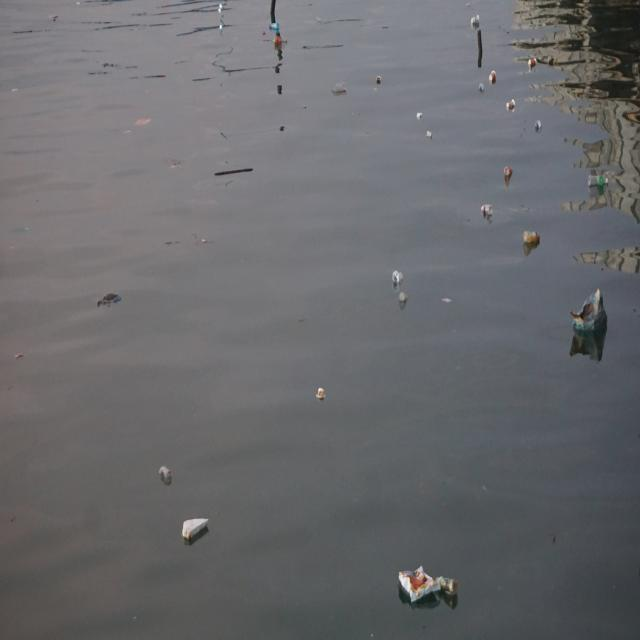Botol Plastik: (432, 571, 461, 598), (586, 165, 612, 195), (522, 227, 544, 250), (271, 34, 295, 55), (268, 16, 287, 36), (480, 202, 497, 221)
Bungkus Makanan: (397, 561, 439, 609), (179, 513, 211, 551)
Bungkus Minuman: (468, 13, 488, 33), (392, 266, 405, 290), (504, 160, 517, 184), (489, 67, 502, 85), (508, 97, 519, 115), (534, 118, 542, 134)
Kantong Plastik: (567, 286, 609, 350)
